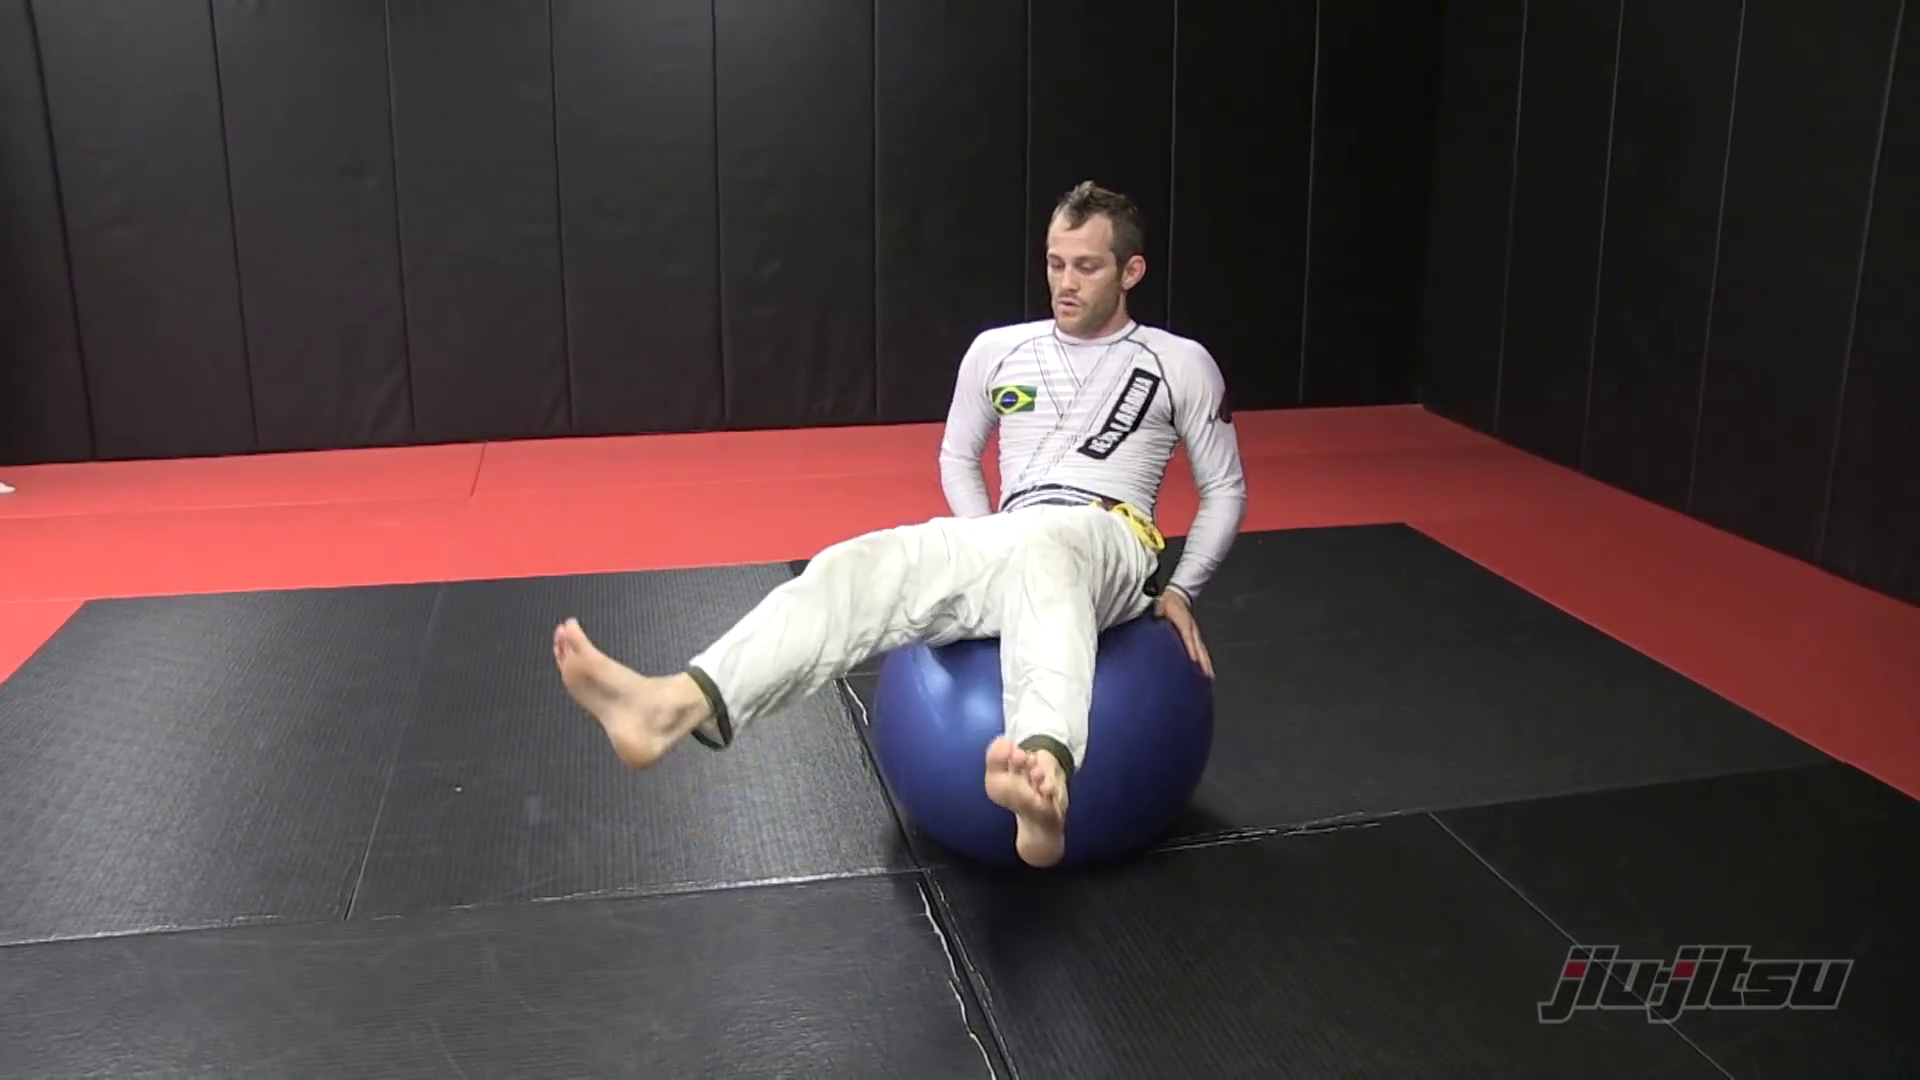yogaball: (857, 589, 1233, 878)
